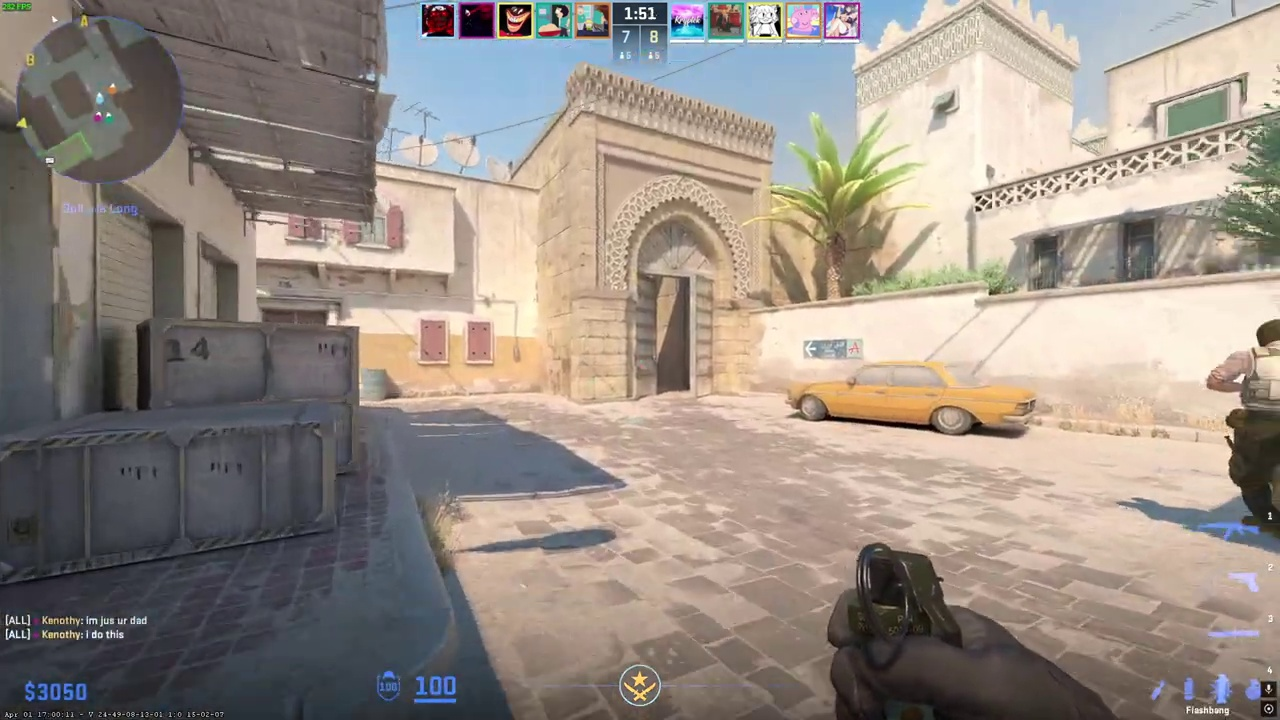Terrorist: (1216, 319, 1280, 542)
